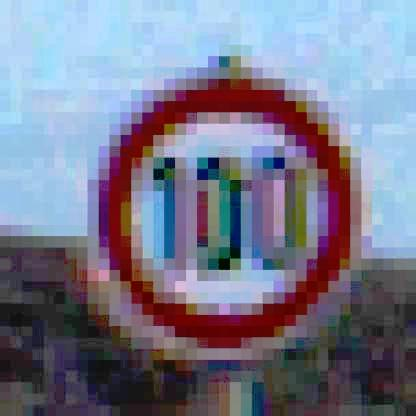Speed Limit -100-: (89, 66, 358, 362)
